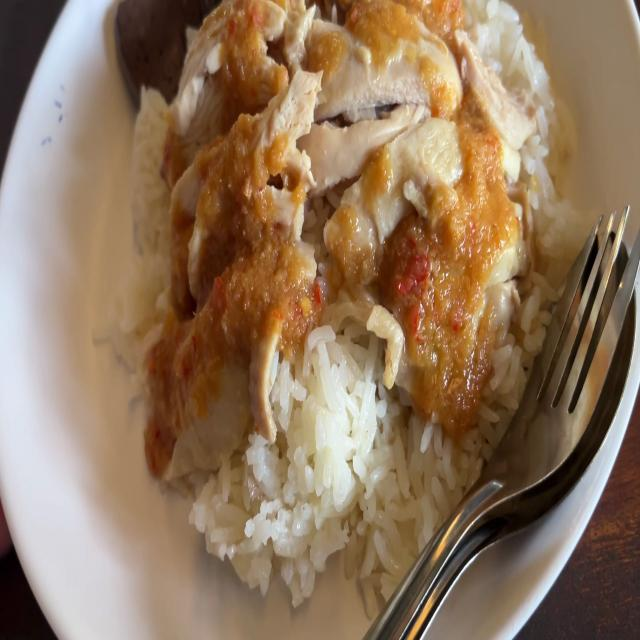boiled_chicken: (160, 0, 493, 396)
boiled_chicken_blood_jelly: (109, 0, 212, 96)
chicken_rice: (104, 0, 562, 572)
